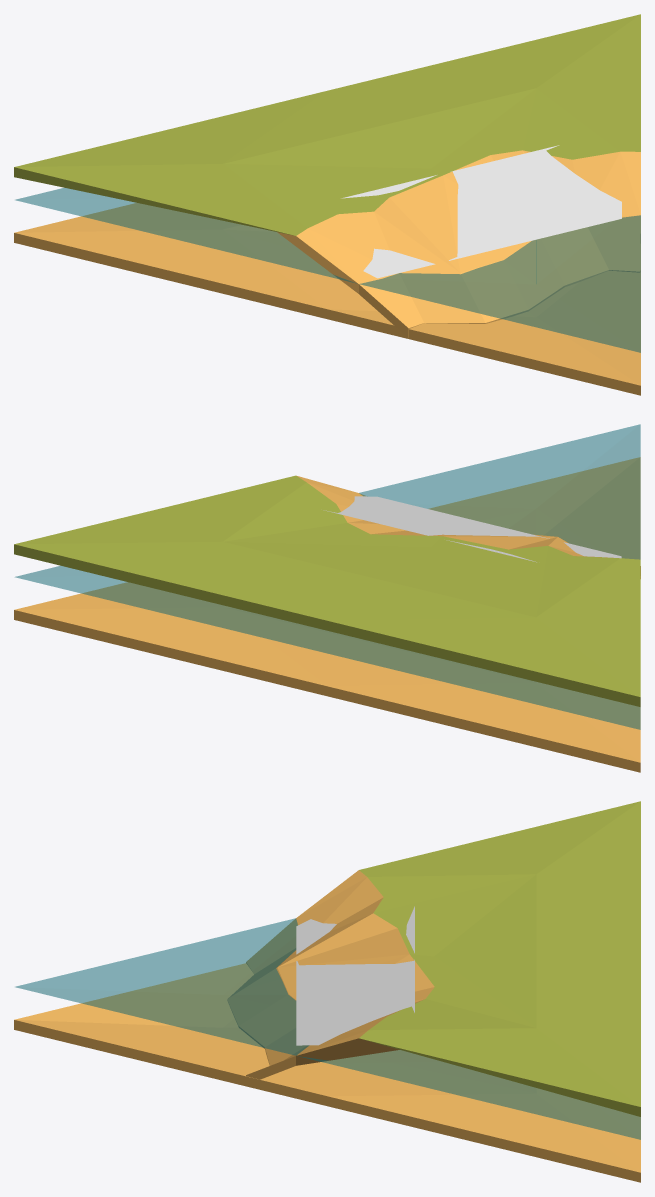
The model's file is tile5.glb.
The picture shows the model from 3 angles, top to bottom: view 1: azimuth 30°, elevation 25°; view 2: azimuth 150°, elevation 25°; view 3: azimuth 270°, elevation 25°; orthographic projection.
Visible parts, largest first — view 1: ground.007, sand5, water5, grass5; view 2: ground.007, sand5, water5, grass5; view 3: ground.007, sand5, water5, grass5.
Boxes of the visible parts, left/top/right/bottom form: ground.007: left=14, top=14, right=640, bottom=338; sand5: left=14, top=203, right=640, bottom=395; water5: left=15, top=187, right=640, bottom=352; grass5: left=341, top=145, right=621, bottom=278; ground.007: left=14, top=475, right=640, bottom=706; sand5: left=14, top=457, right=640, bottom=772; water5: left=15, top=424, right=640, bottom=729; grass5: left=323, top=496, right=621, bottom=562; ground.007: left=227, top=801, right=640, bottom=1116; sand5: left=14, top=963, right=640, bottom=1182; water5: left=15, top=918, right=640, bottom=1139; grass5: left=296, top=906, right=414, bottom=1045.
Bounding box in the file's own units: 1 × 0.1203 × 0.866.
